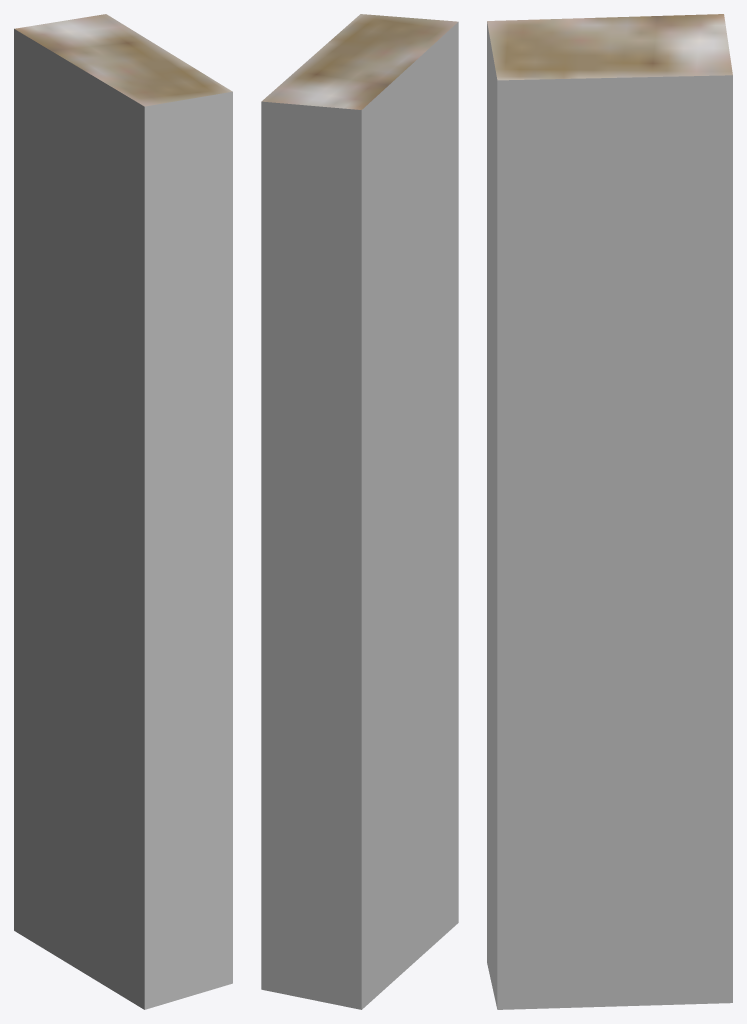
Rendered from DEBW_0010007THWY.gltf.
3 views of the same model, side by side, from view 1: azimuth 30°, elevation 25°; view 2: azimuth 150°, elevation 25°; view 3: azimuth 270°, elevation 25° (orthographic). The views are drawn at different scales.
Visible parts, largest first — view 1: Z_UP; view 2: Z_UP; view 3: Z_UP.
Part boxes in pixels (left/top/right/bottom): Z_UP: left=14, top=14, right=232, bottom=1009; Z_UP: left=261, top=14, right=458, bottom=1009; Z_UP: left=487, top=14, right=732, bottom=1009.
Bounding box in the file's own units: 1.78 × 13.98 × 3.31.
Materials: 2 (1 with a texture image).
